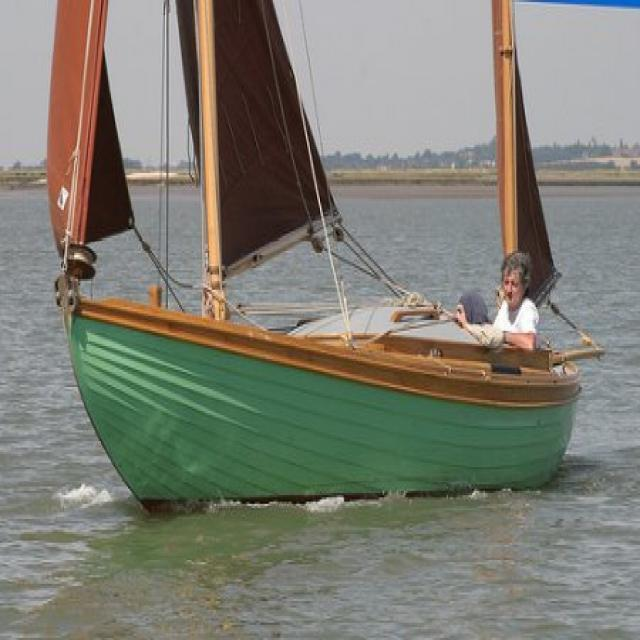Ship: (50, 4, 588, 520)
